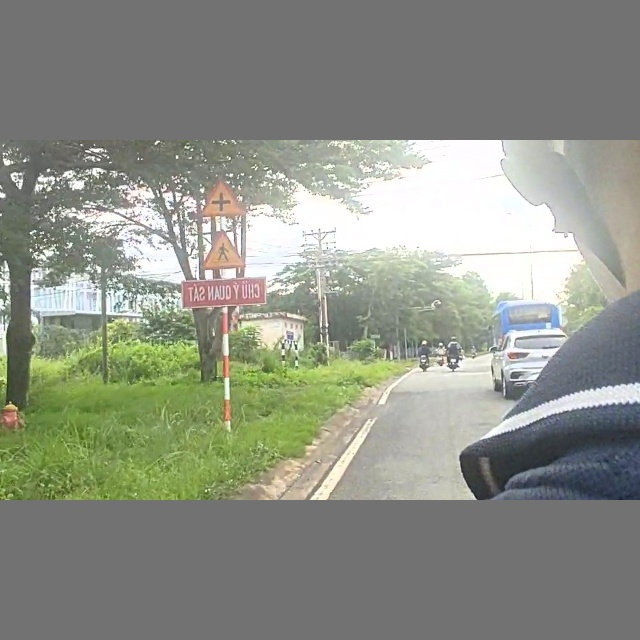W.205a: (197, 179, 246, 219)
W.224: (193, 229, 252, 270)
